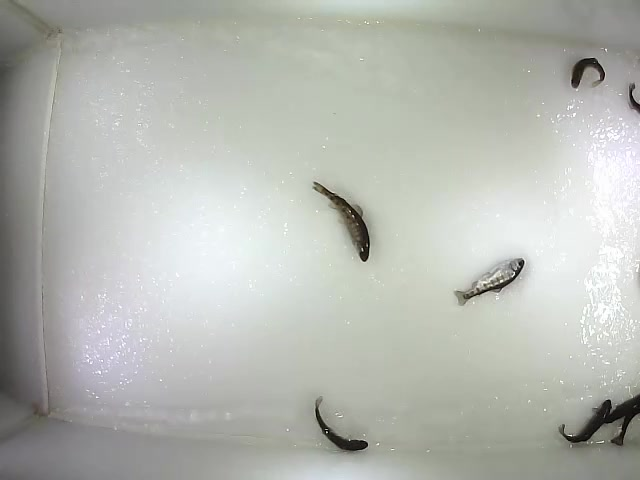fish: (311, 180, 371, 263), (454, 256, 525, 308), (313, 395, 369, 454), (557, 398, 613, 444), (570, 56, 606, 92)
